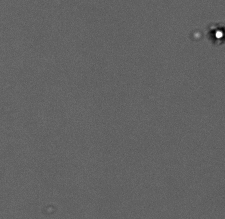Living Cell: (209, 26, 225, 43)
